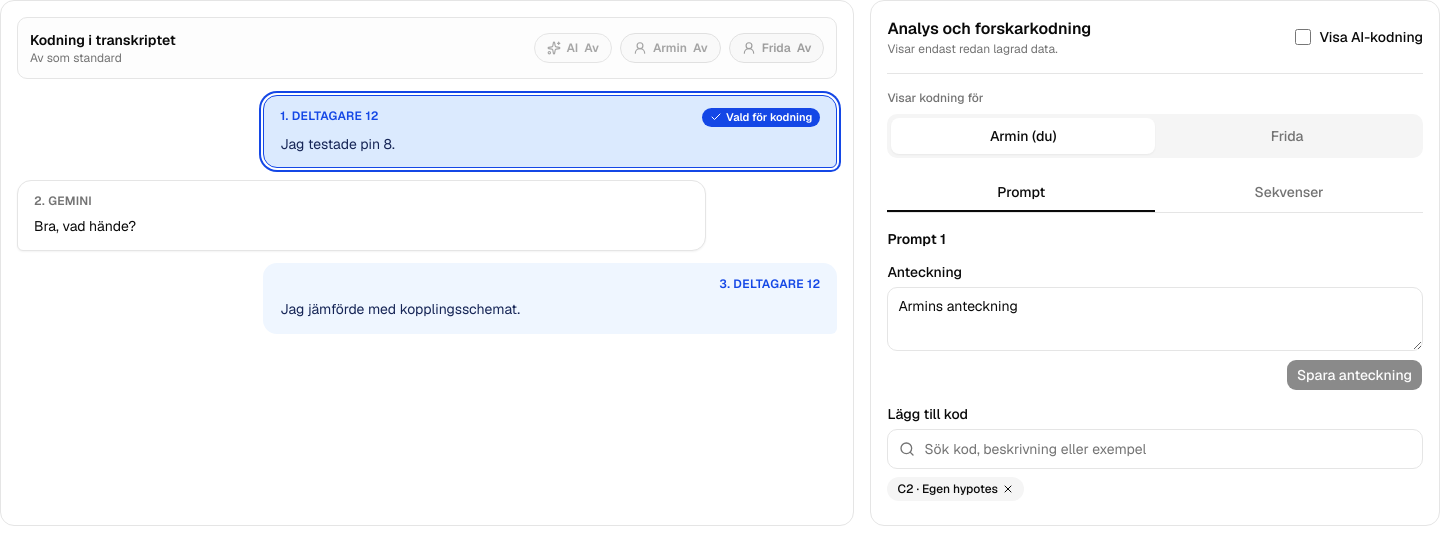
TranscriptWorkspace › places overlapping sequences in separate lanes and opens their stored details
The image size is (1440, 543).
Click the button with aria-label "Visa AI-koder i transkriptet": (573, 48) [534,33,612,63]
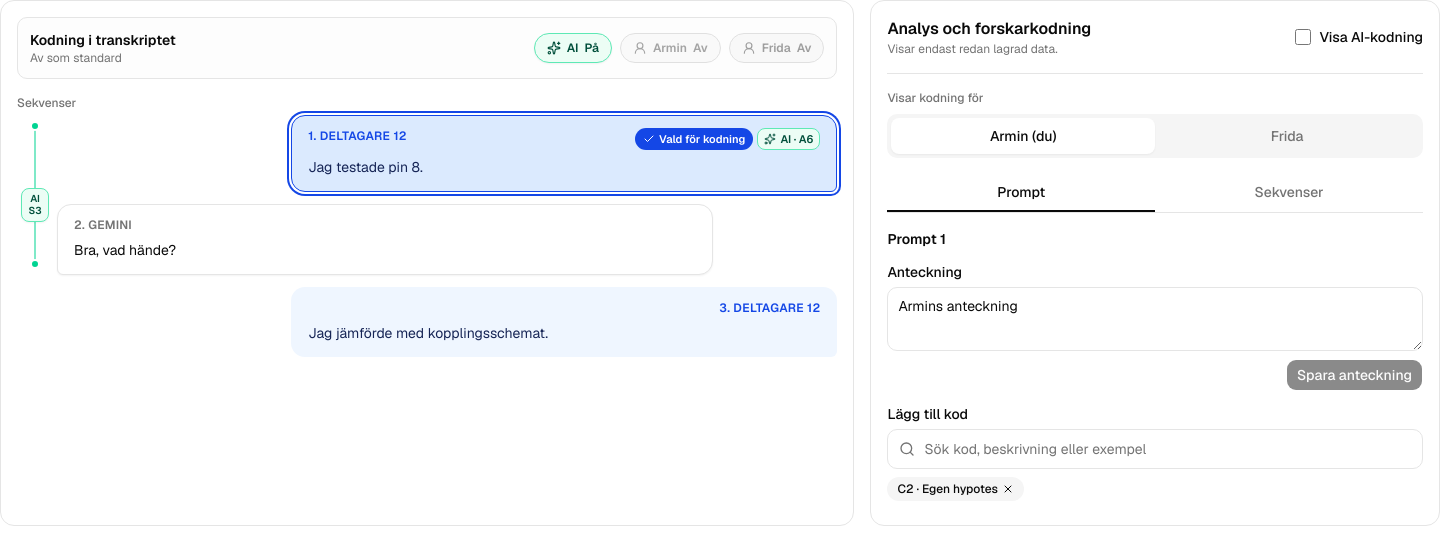
Click the button with aria-label "Visa Armin-koder i transkriptet": (670, 48) [620,33,721,63]
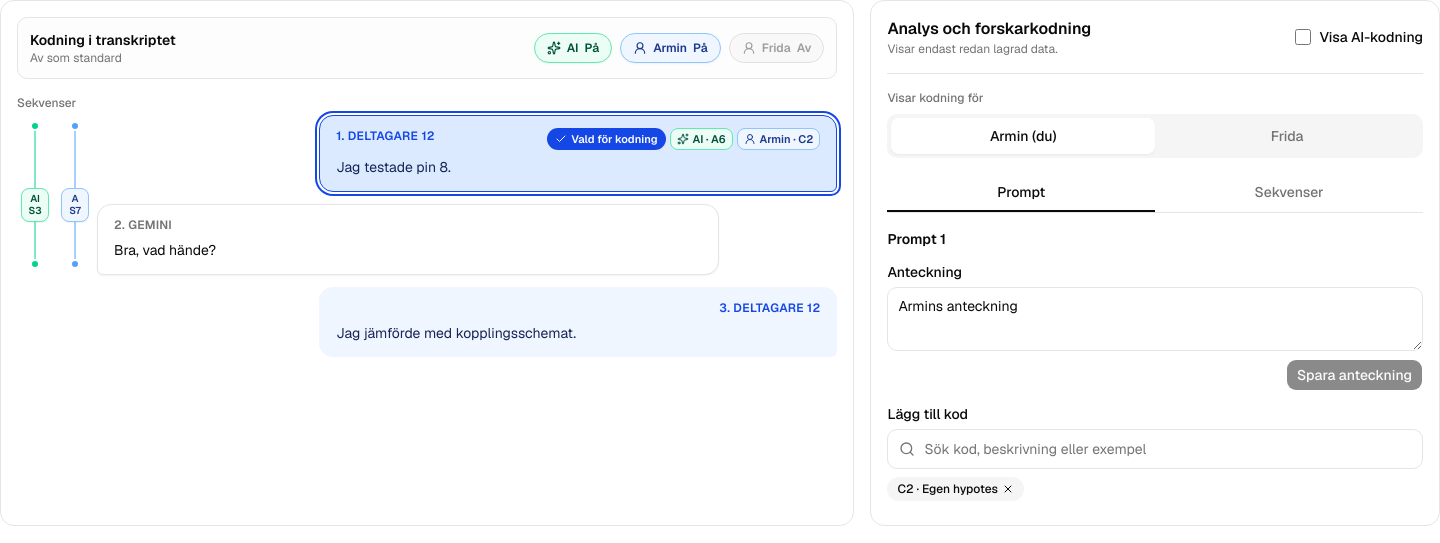
Hover over the button with aria-label "AI: S3, Direkt-svarssökande förlopp, meddelande 1–2": (35, 195) [19,115,51,274]
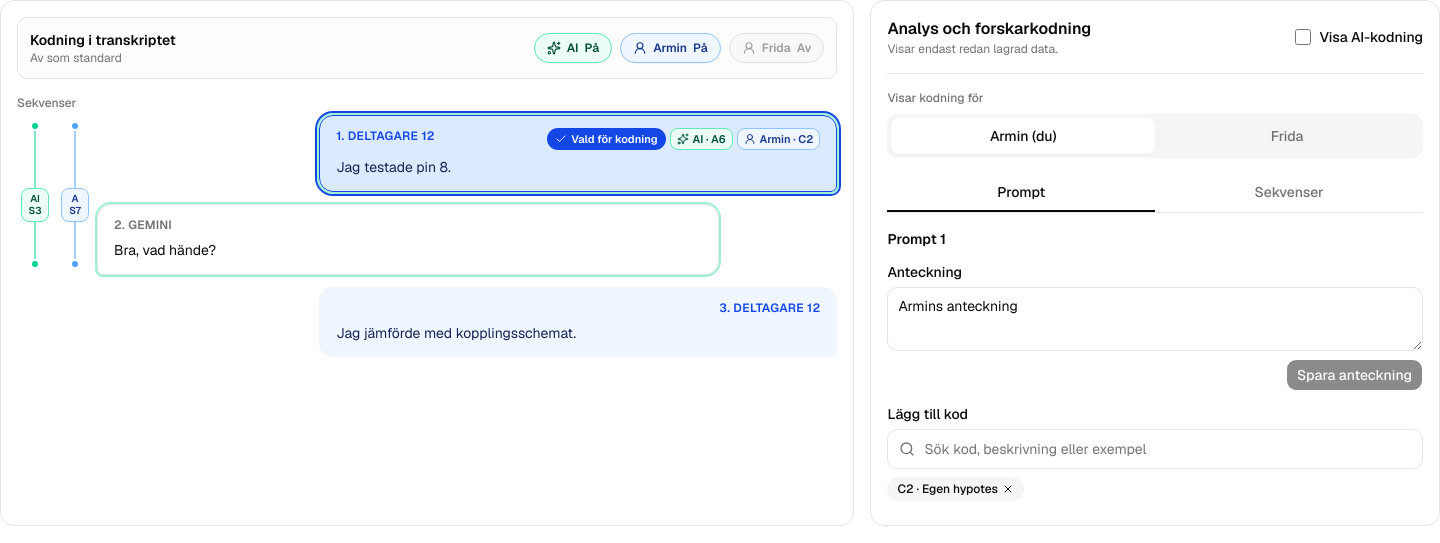
Click the button with aria-label "AI: S3, Direkt-svarssökande förlopp, meddelande 1–2": (35, 195) [19,115,51,274]
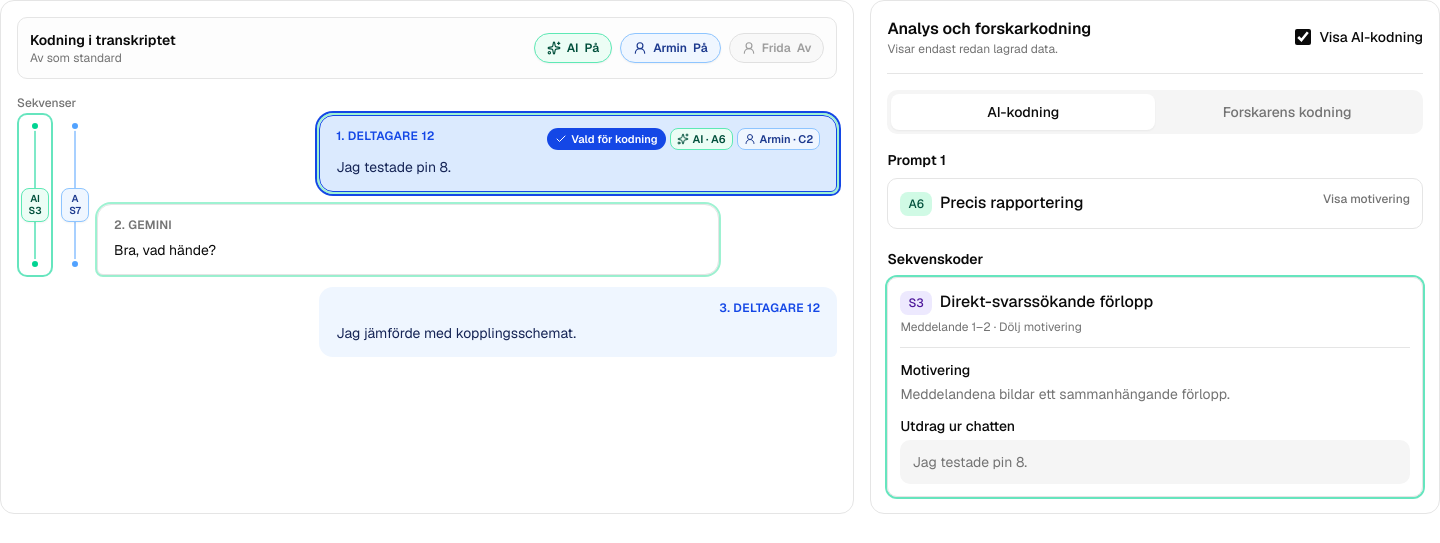
Result: the checkbox labelled "Visa AI-kodning" is checked at [1295,29,1311,45]
Click the button named "Armin: S7, Produktiv samkonstruktion, meddelande 1–2": (75, 195) [59,115,91,274]
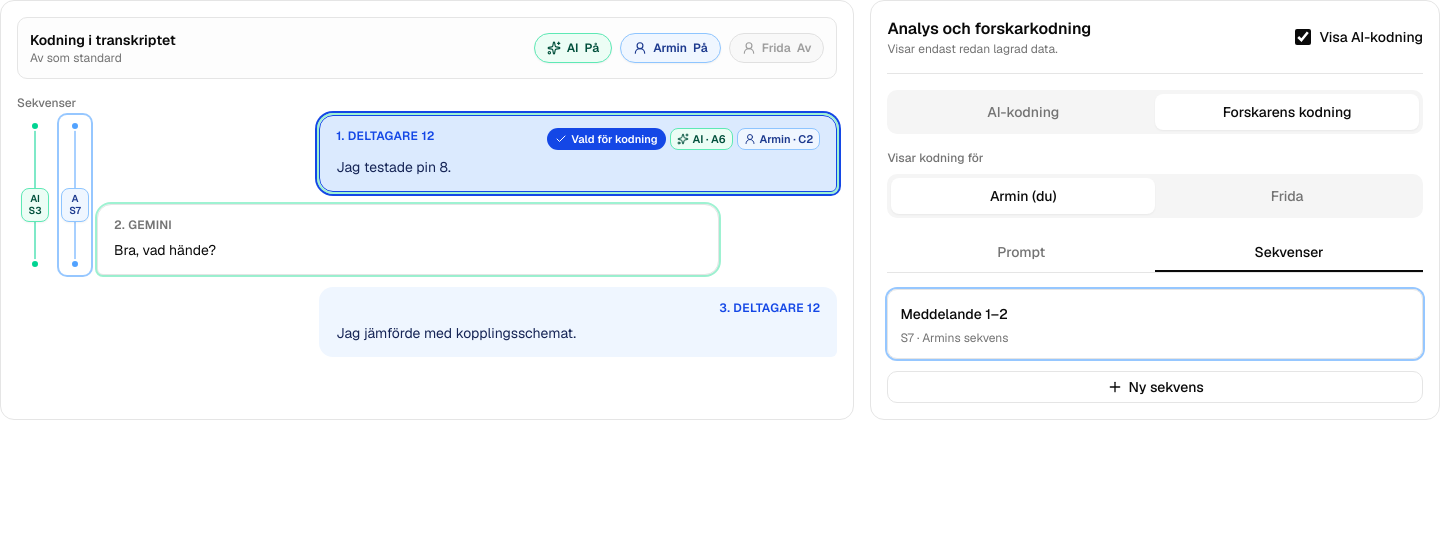
Result: the button "Sekvenser" is shown at [1155,234,1423,272]
Result: the text "S7 · Armins sekvens" is shown at [900,330,1008,346]
